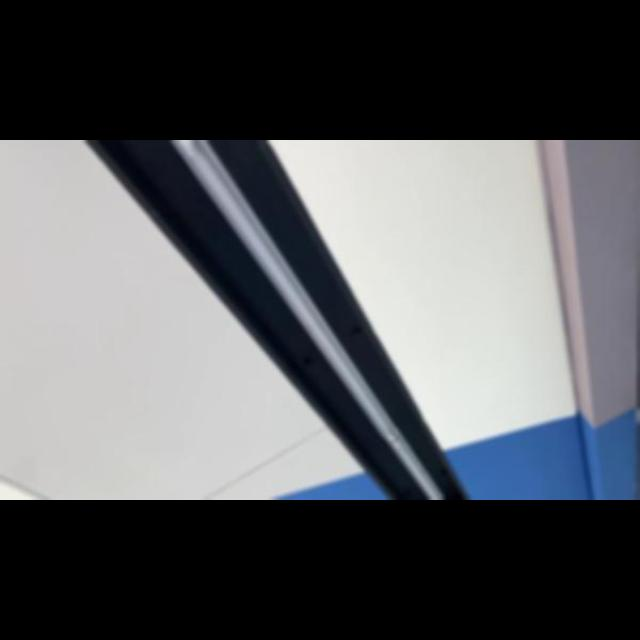Straight-Tube-Fluorescent-Lamp: (148, 140, 468, 500)
